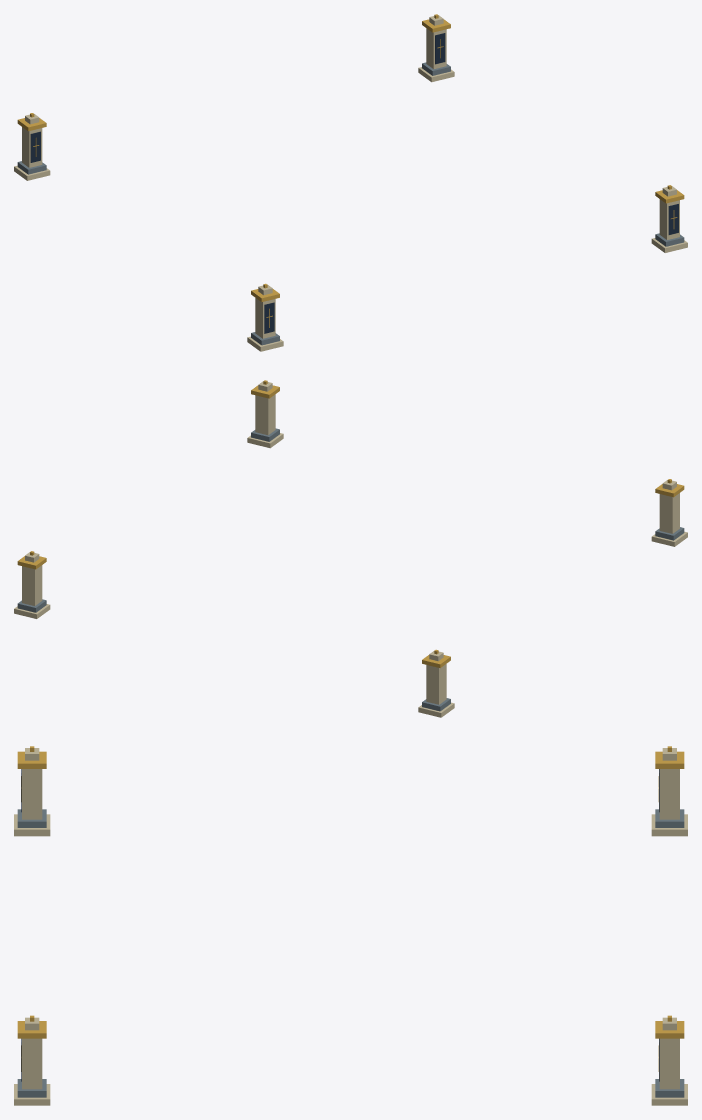
Rendered from trial_arena_pillars.glb.
3 renders of one model, top to bottom at view 1: azimuth 30°, elevation 25°; view 2: azimuth 150°, elevation 25°; view 3: azimuth 270°, elevation 25°, orthographic. The views are drawn at different scales.
Parts seen in each view (by area): view 1: trial_arena_pillars; view 2: trial_arena_pillars; view 3: trial_arena_pillars.
Boxes of the visible parts, x1,y1,x2,y2 form: trial_arena_pillars: [14, 14, 687, 351]; trial_arena_pillars: [14, 380, 687, 717]; trial_arena_pillars: [14, 746, 687, 1105].
Size of the model in its own units: 93 by 12.4 by 93.
